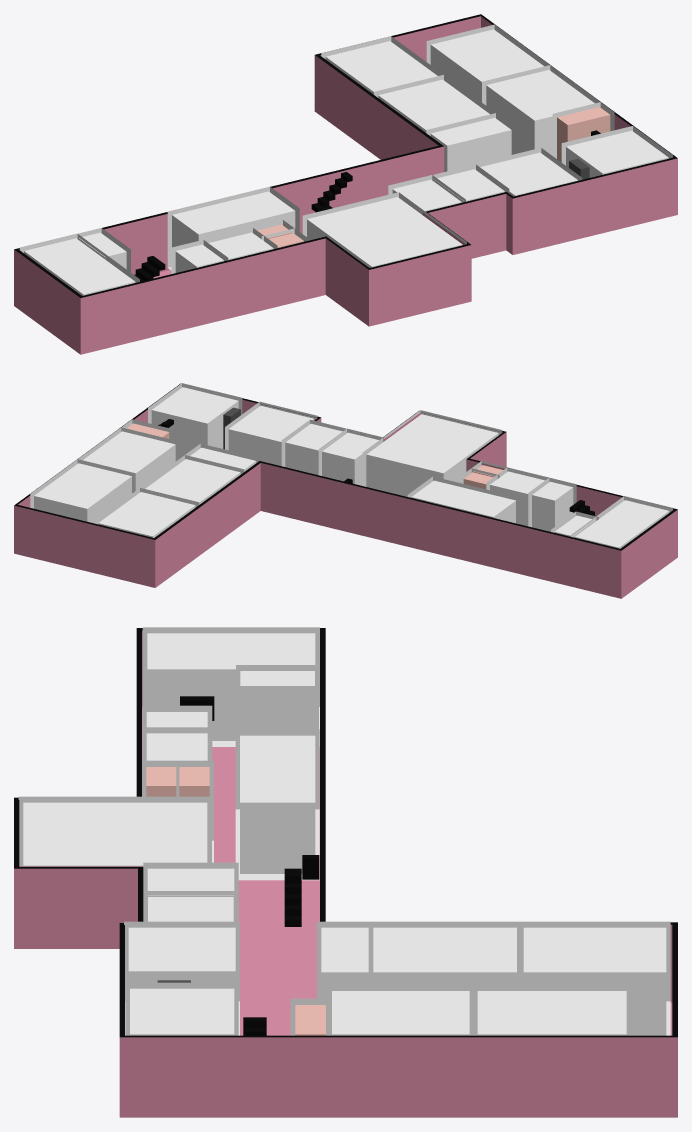
3 views of the same model, one above another, from view 1: azimuth 30°, elevation 25°; view 2: azimuth 150°, elevation 25°; view 3: azimuth 270°, elevation 25° (orthographic). The views are drawn at different scales.
Parts seen in each view (by area): view 1: object, room_4_2_1, room_4_2_9, room_4_2_10, room_4_2_12, room_4_2_14, room_4_2_8, room_4_2_7, room_4_2_6, room_4_2_5, room_4_2_4, トイレ_4_2_2 (+17 smaller); view 2: object, room_4_2_1, room_4_2_10, room_4_2_5, room_4_2_4, room_4_2_9, room_4_2_8, room_4_2_14, room_4_2_7, room_4_2_12, room_4_2_2, room_4_2_3 (+16 smaller); view 3: object, room_4_2_1, room_4_2_12, room_4_2_8, room_4_2_14, room_4_2_7, room_4_2_10, room_4_2_9, room_4_2_4, room_4_2_5, room_4_2_11, room_4_2_6 (+20 smaller).
Boxes of the visible parts, x1,y1,x2,y2 form: object: (14, 14, 677, 354); room_4_2_1: (307, 197, 462, 267); room_4_2_9: (486, 70, 594, 155); room_4_2_10: (430, 29, 543, 102); room_4_2_12: (172, 191, 295, 247); room_4_2_14: (24, 238, 135, 295); room_4_2_8: (325, 41, 437, 94); room_4_2_7: (378, 79, 489, 132); room_4_2_6: (430, 118, 511, 171); room_4_2_5: (566, 130, 668, 177); room_4_2_4: (480, 152, 577, 196); トイレ_4_2_2: (557, 107, 610, 162); object: (14, 383, 677, 598); room_4_2_1: (366, 414, 498, 496); room_4_2_10: (34, 463, 131, 523); room_4_2_5: (151, 387, 238, 458); room_4_2_4: (228, 405, 313, 466); room_4_2_9: (83, 431, 175, 490); room_4_2_8: (98, 492, 195, 537); room_4_2_14: (574, 500, 669, 548); room_4_2_7: (145, 459, 240, 504); room_4_2_12: (411, 480, 515, 523); room_4_2_2: (322, 432, 378, 485); room_4_2_3: (285, 423, 345, 475); object: (14, 628, 677, 1117); room_4_2_1: (23, 802, 207, 866); room_4_2_12: (240, 735, 315, 873); room_4_2_8: (523, 927, 666, 1035); room_4_2_14: (147, 633, 315, 740); room_4_2_7: (373, 927, 516, 984); room_4_2_10: (477, 991, 626, 1035); room_4_2_9: (332, 991, 469, 1035); room_4_2_4: (128, 927, 235, 982); room_4_2_5: (130, 988, 234, 1035); room_4_2_11: (240, 671, 314, 729); room_4_2_6: (321, 927, 368, 998).
Bounding box in the file's own units: 2.89 × 0.2763 × 1.98.
